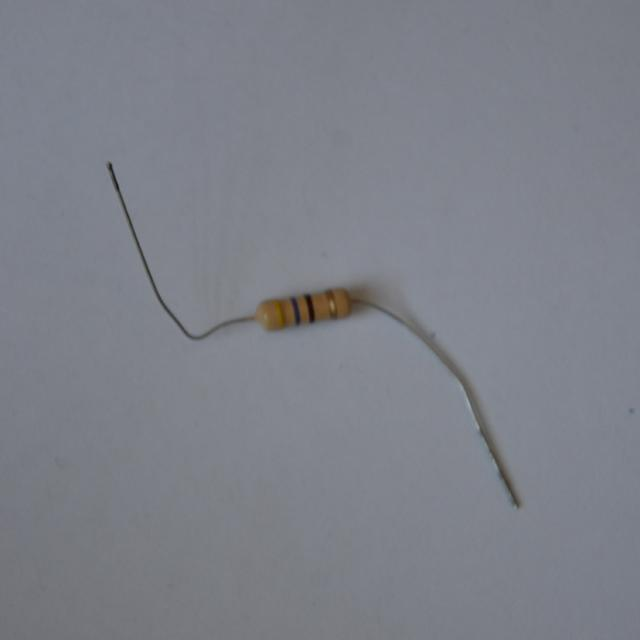brown: (305, 294, 315, 321)
gold: (325, 290, 336, 317)
resistor: (247, 275, 370, 344)
violet: (292, 298, 300, 325)
yellow: (275, 300, 283, 325)
